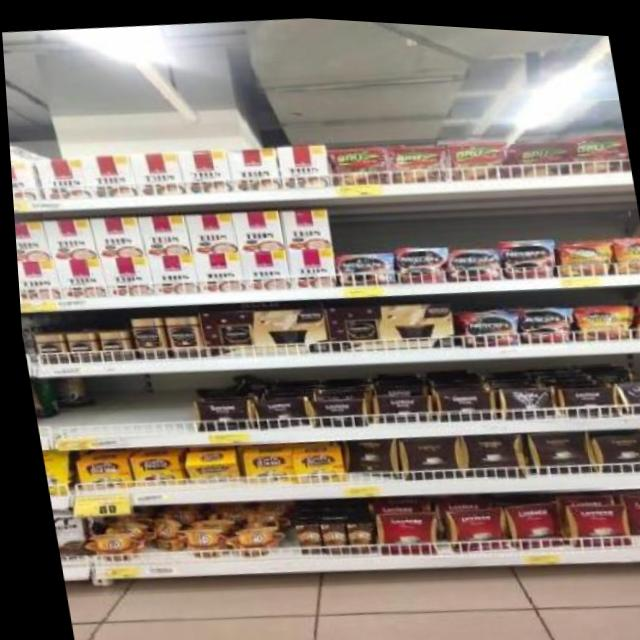Coffee: (440, 239, 501, 280), (330, 245, 393, 284), (497, 233, 552, 275), (392, 239, 447, 281), (456, 305, 516, 343), (555, 232, 610, 272), (570, 295, 625, 335), (513, 299, 568, 338), (160, 314, 200, 357), (125, 315, 164, 358), (608, 229, 640, 266), (30, 333, 61, 363), (63, 331, 94, 361), (99, 329, 128, 359)
